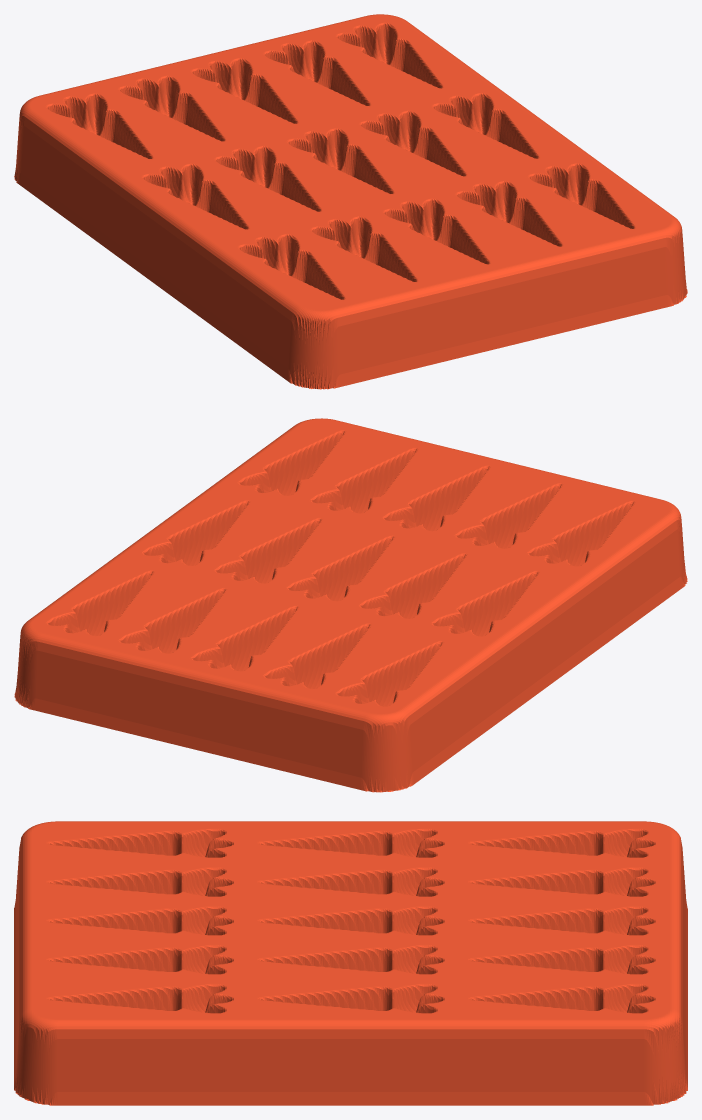
The model's file is mold.glb.
The picture shows the model from 3 angles, top to bottom: view 1: azimuth 30°, elevation 25°; view 2: azimuth 150°, elevation 25°; view 3: azimuth 270°, elevation 25°; orthographic projection. The views are drawn at different scales.
Parts seen in each view (by area): view 1: geometry_0; view 2: geometry_0; view 3: geometry_0.
Part boxes in pixels (<box>): geometry_0: <box>14,14,687,389</box>; geometry_0: <box>14,418,687,792</box>; geometry_0: <box>14,821,687,1105</box>.
Size of the model in its own units: 0.1051 by 0.0182 by 0.1415.
